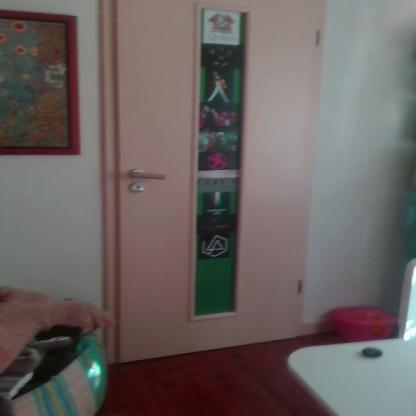door: (116, 0, 306, 352)
hinged: (314, 22, 324, 48), (295, 276, 306, 294)
lever: (129, 171, 168, 181)
